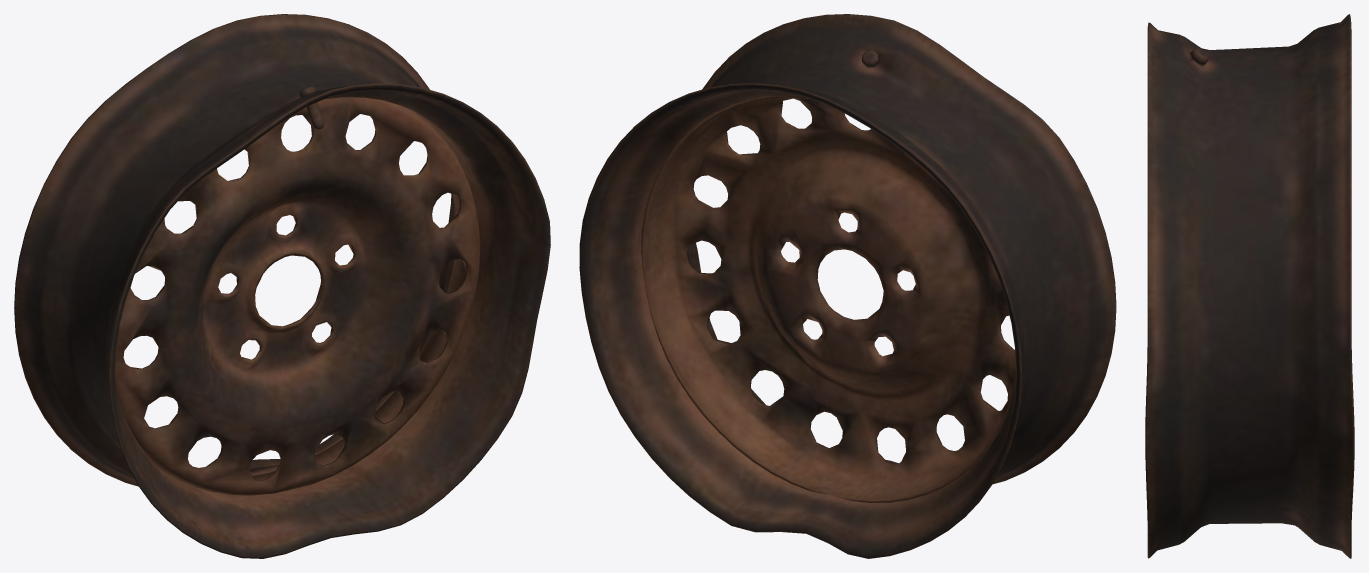
The model's file is rusted_wheel_rim_01.glb.
3 renders of one model, left to right at view 1: azimuth 30°, elevation 25°; view 2: azimuth 150°, elevation 25°; view 3: azimuth 270°, elevation 25°, orthographic. The views are drawn at different scales.
Visible parts, largest first — view 1: rusted_wheel_rim_01; view 2: rusted_wheel_rim_01; view 3: rusted_wheel_rim_01.
Boxes of the visible parts, x1=… form: rusted_wheel_rim_01: x1=14, y1=14, x2=550, y2=558; rusted_wheel_rim_01: x1=579, y1=14, x2=1116, y2=558; rusted_wheel_rim_01: x1=1145, y1=14, x2=1354, y2=558.
Size of the model in its own units: 0.4028 by 0.3955 by 0.1541.
1 material, 1 textured.
